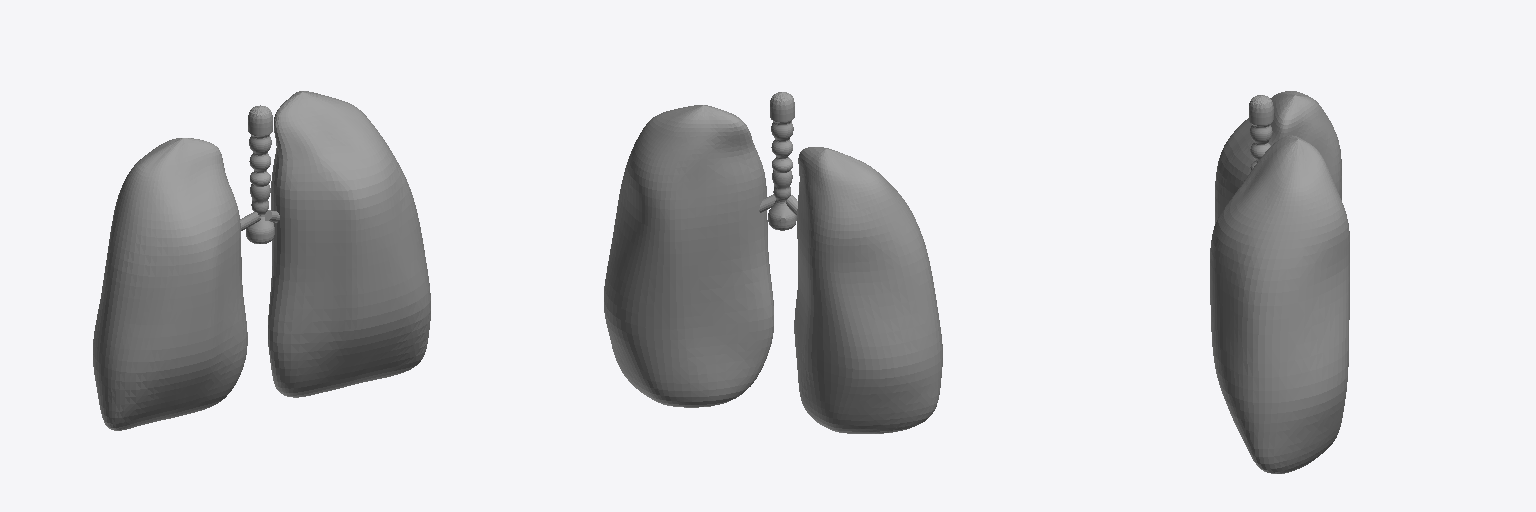
The model's file is lung_v2.obj.
The picture shows the model from 3 angles: view 1: azimuth 30°, elevation 25°; view 2: azimuth 150°, elevation 25°; view 3: azimuth 270°, elevation 25°; orthographic projection.
Parts seen in each view (by area): view 1: Sphere.002, Sphere.001, Cylinder; view 2: Sphere.002, Sphere.001, Cylinder; view 3: Sphere.002, Sphere.001, Cylinder.
Boxes of the visible parts, box(x1,y1,x2,y2) form: Sphere.002: box(268, 91, 430, 397); Sphere.001: box(93, 138, 247, 430); Cylinder: box(246, 105, 274, 243); Sphere.002: box(604, 105, 773, 407); Sphere.001: box(794, 147, 942, 433); Cylinder: box(768, 92, 796, 230); Sphere.002: box(1210, 135, 1349, 473); Sphere.001: box(1215, 91, 1341, 223); Cylinder: box(1249, 95, 1273, 170).
Bounding box in the file's own units: 7.82 × 7.27 × 2.93.